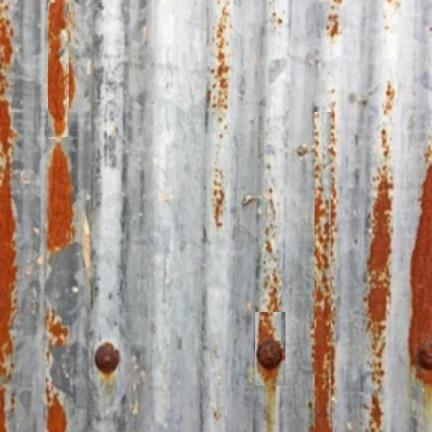karat: (364, 80, 396, 431), (309, 110, 336, 431), (256, 125, 284, 388), (0, 0, 16, 431), (409, 163, 431, 384), (47, 141, 74, 251), (47, 0, 68, 136), (46, 384, 67, 431), (45, 308, 68, 346), (256, 338, 284, 369), (94, 342, 119, 374)
